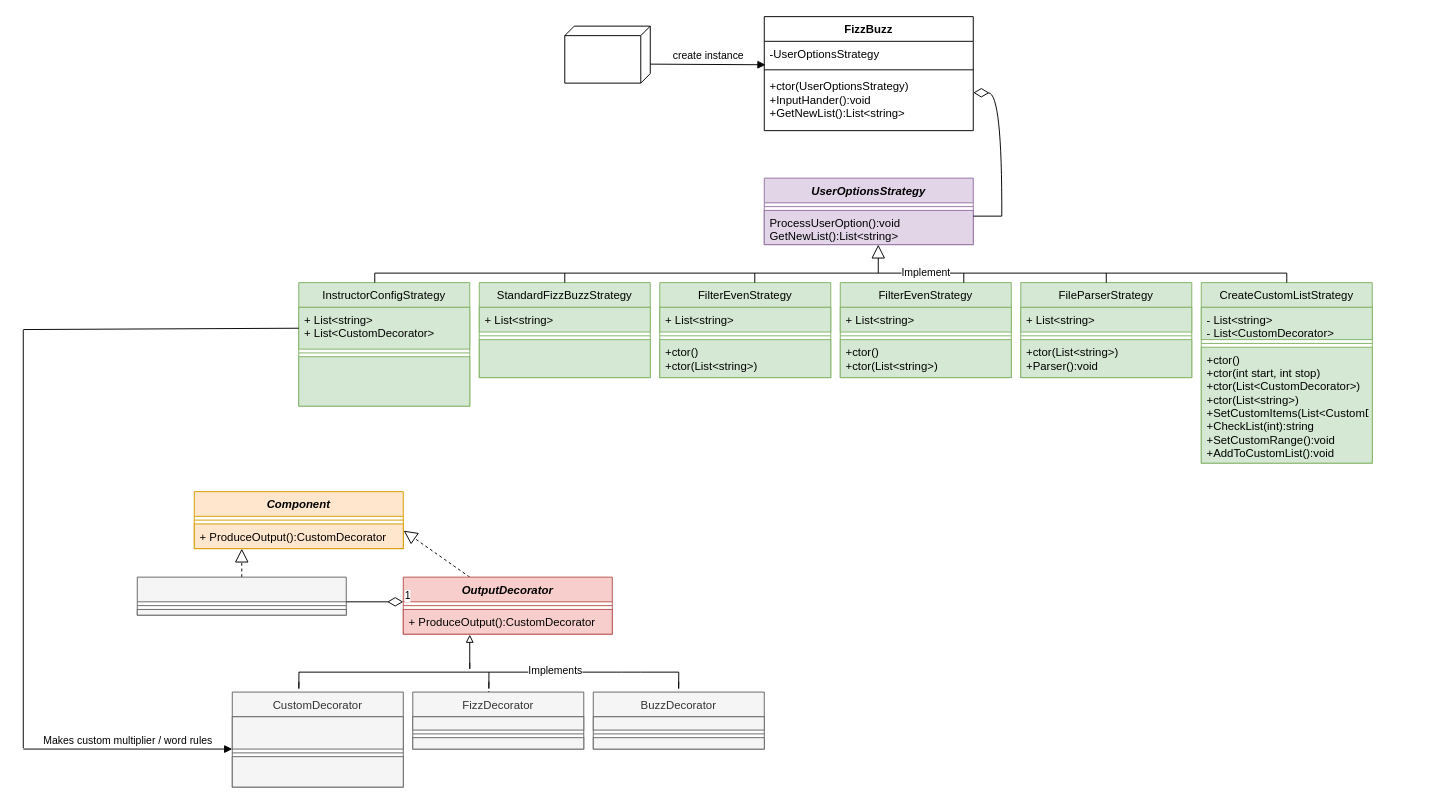
The diagram is 1441 pixels wide and 807 high, and some of its shapes have lost their labels. Here are the shapes that lost their labels. From the top down, the centre of each, then its label:
(607,54): Program
(564,358): +ctor() +PrintList():void
(384,381): + ReverseList():void + StoreList():void +PrintList():void
(241,595): ConcreteComponent
(317,732): - int number - string word
(317,771): +ctor(int number, string word)
